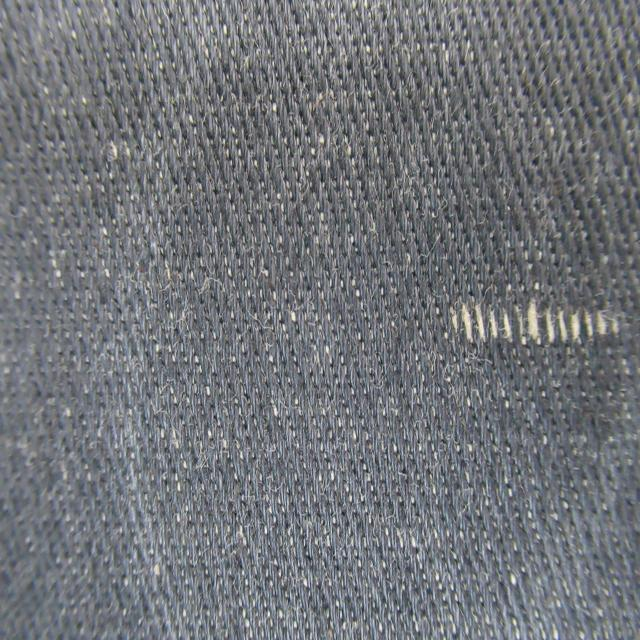pulled_or_thick_thread: (440, 293, 620, 355)
